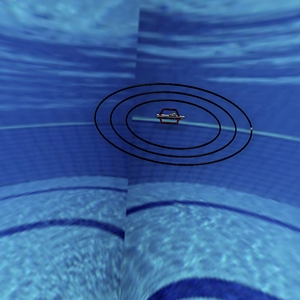circle: (83, 73, 265, 173)
submarine: (151, 96, 186, 132)
